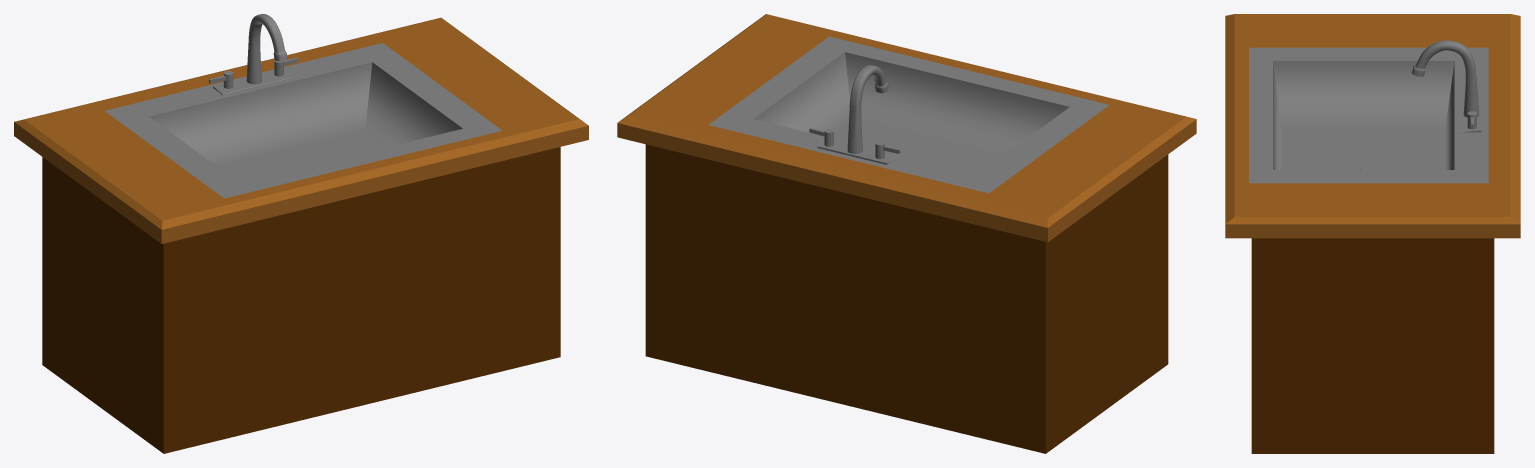
Rendered from Sink.fbx.
3 views of the same model, side by side, from view 1: azimuth 30°, elevation 25°; view 2: azimuth 150°, elevation 25°; view 3: azimuth 270°, elevation 25° (orthographic).
Parts seen in each view (by area): view 1: Cube2, pCylinder1; view 2: Cube2, pCylinder1; view 3: Cube2, pCylinder1.
Part boxes in pixels (bbox=[...]): Cube2: bbox=[14, 17, 588, 453]; pCylinder1: bbox=[246, 14, 287, 84]; Cube2: bbox=[617, 14, 1196, 453]; pCylinder1: bbox=[847, 65, 888, 153]; Cube2: bbox=[1225, 14, 1520, 453]; pCylinder1: bbox=[1412, 40, 1479, 117].
Bounding box in the file's own units: 406 × 288 × 243.
